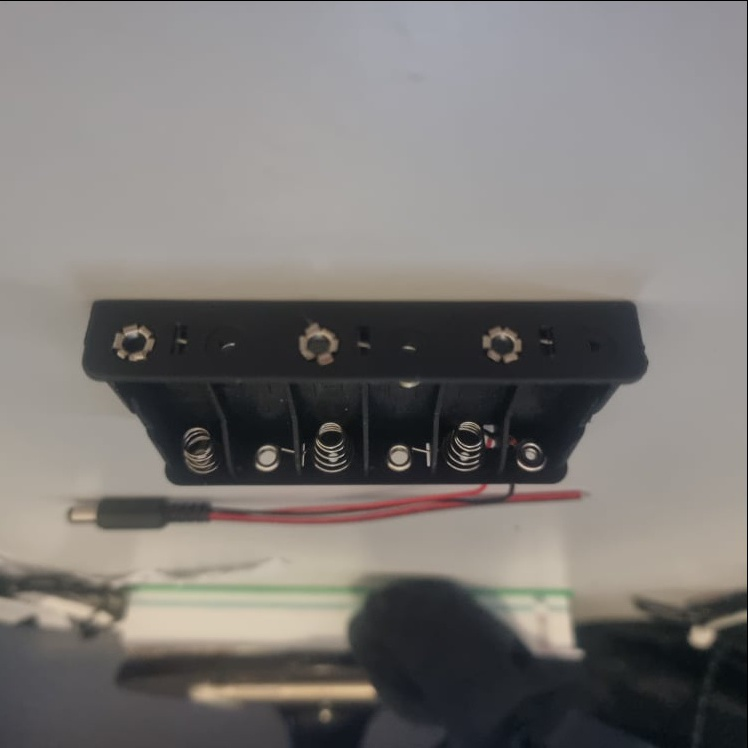BATTERY BOX: (81, 298, 649, 484)
